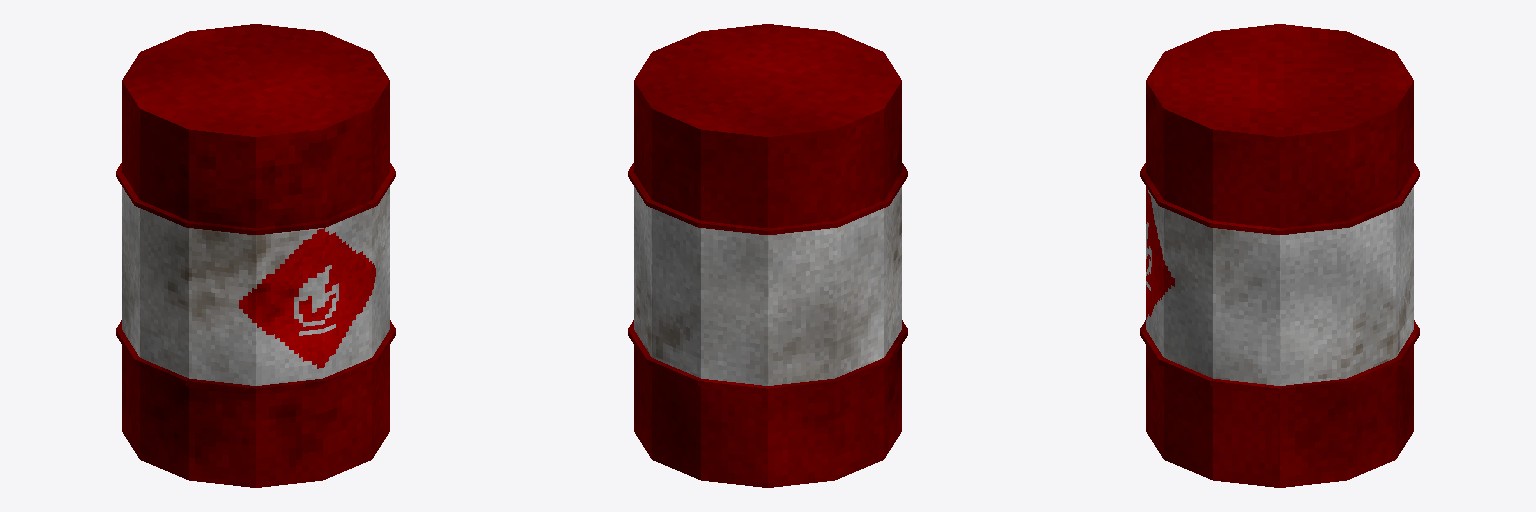
3 renders of one model, left to right at view 1: azimuth 30°, elevation 25°; view 2: azimuth 150°, elevation 25°; view 3: azimuth 270°, elevation 25°, orthographic.
Visible parts, largest first — view 1: pCylinder1; view 2: pCylinder1; view 3: pCylinder1.
Part boxes in pixels (left/top/right/bottom): pCylinder1: left=116, top=24, right=395, bottom=487; pCylinder1: left=628, top=24, right=907, bottom=487; pCylinder1: left=1140, top=24, right=1419, bottom=487.
Bounding box in the file's own units: 2.09 × 2.89 × 2.09.
Materials: 1 (1 with a texture image).